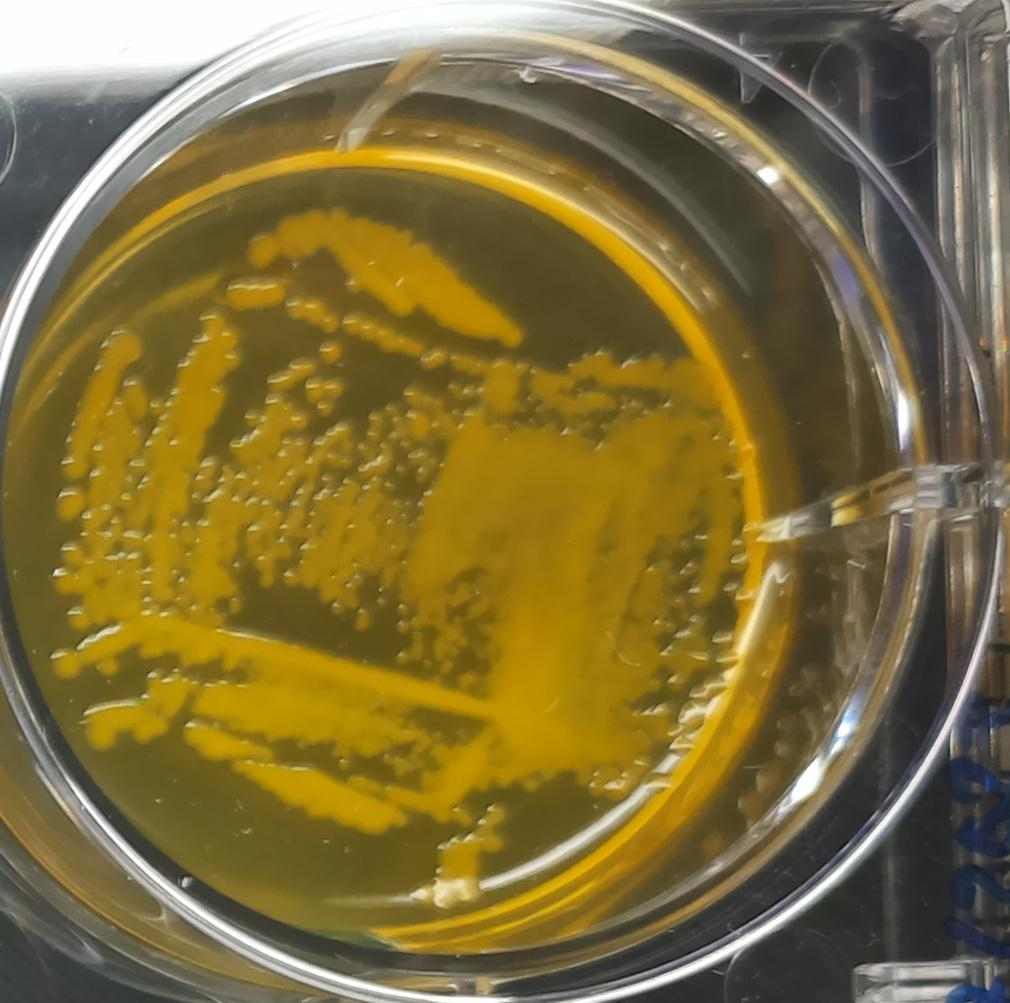vharveyi: (270, 200, 531, 356), (152, 298, 252, 450), (58, 317, 146, 475), (426, 804, 512, 906), (564, 342, 717, 394), (80, 694, 175, 755), (660, 610, 714, 695), (341, 314, 425, 357), (51, 539, 103, 599), (219, 273, 289, 313), (263, 355, 315, 400), (279, 295, 339, 333), (301, 375, 351, 416), (243, 227, 285, 269), (51, 484, 90, 527), (188, 450, 219, 504), (44, 645, 81, 683), (320, 340, 345, 366)
